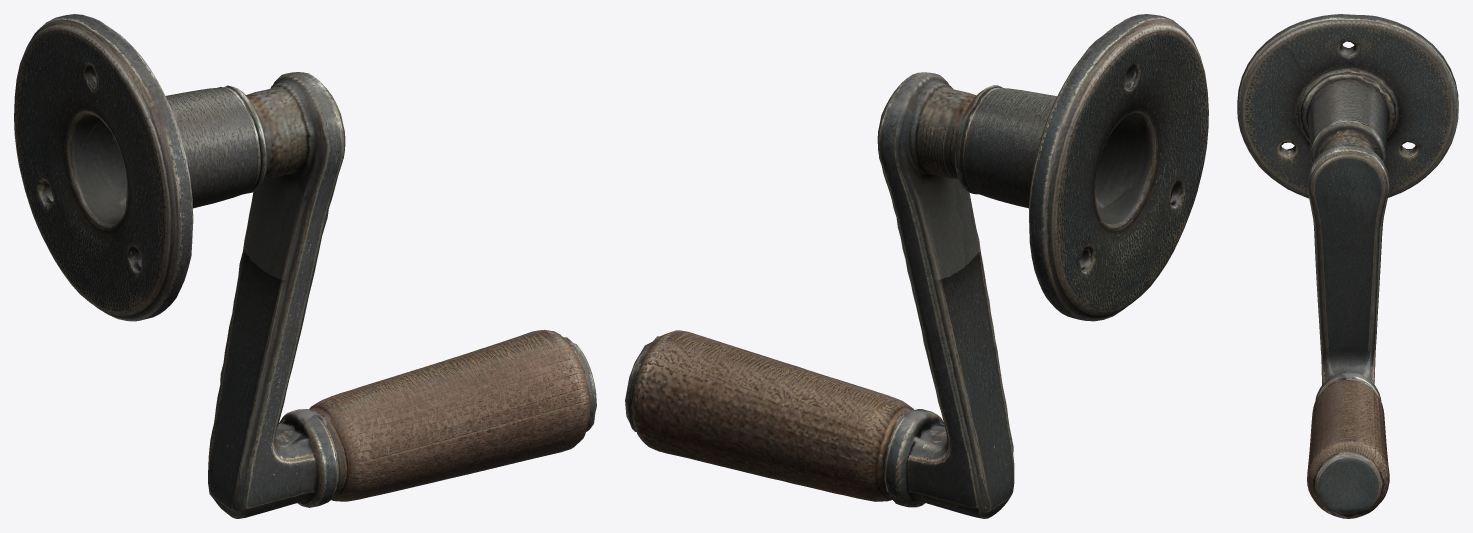
The model's file is Prop_PuppetCrank.fbx.
3 views of the same model, side by side, from view 1: azimuth 30°, elevation 25°; view 2: azimuth 150°, elevation 25°; view 3: azimuth 270°, elevation 25° (orthographic). The views are drawn at different scales.
Visible parts, largest first — view 1: texture_mapping; view 2: texture_mapping; view 3: texture_mapping.
Part boxes in pixels (<box>): texture_mapping: <box>14,14,596,518</box>; texture_mapping: <box>625,14,1208,518</box>; texture_mapping: <box>1237,14,1458,518</box>.
Size of the model in its own units: 0.9701 by 0.568 by 1.
Materials: 1 (1 with a texture image).
